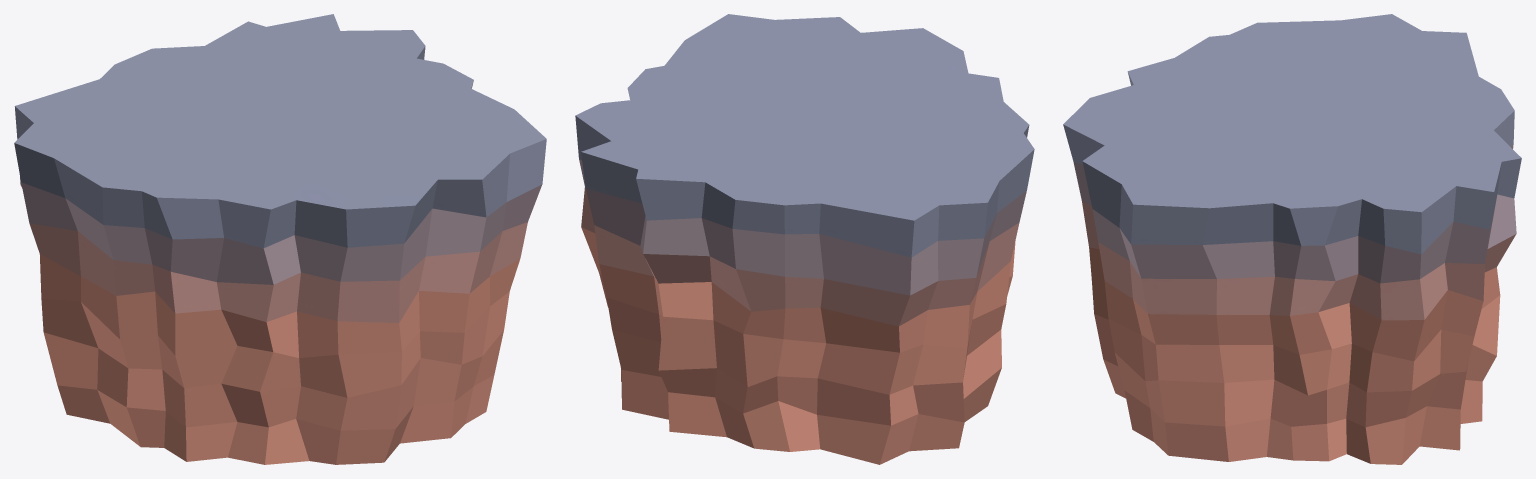
The model's file is cliff01.fbx.
3 views of the same model, side by side, from view 1: azimuth 30°, elevation 25°; view 2: azimuth 150°, elevation 25°; view 3: azimuth 270°, elevation 25° (orthographic). The views are drawn at different scales.
Parts seen in each view (by area): view 1: Plane.001; view 2: Plane.001; view 3: Plane.001.
Boxes of the visible parts, left/top/right/bottom form: Plane.001: left=14, top=14, right=546, bottom=464; Plane.001: left=575, top=14, right=1034, bottom=464; Plane.001: left=1063, top=14, right=1521, bottom=464.
Size of the model in its own units: 897 by 573 by 874.
